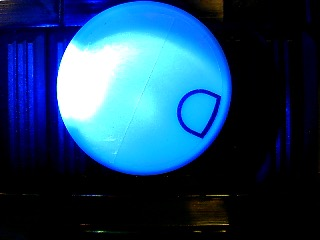MIPO1: (57, 1, 231, 175)
